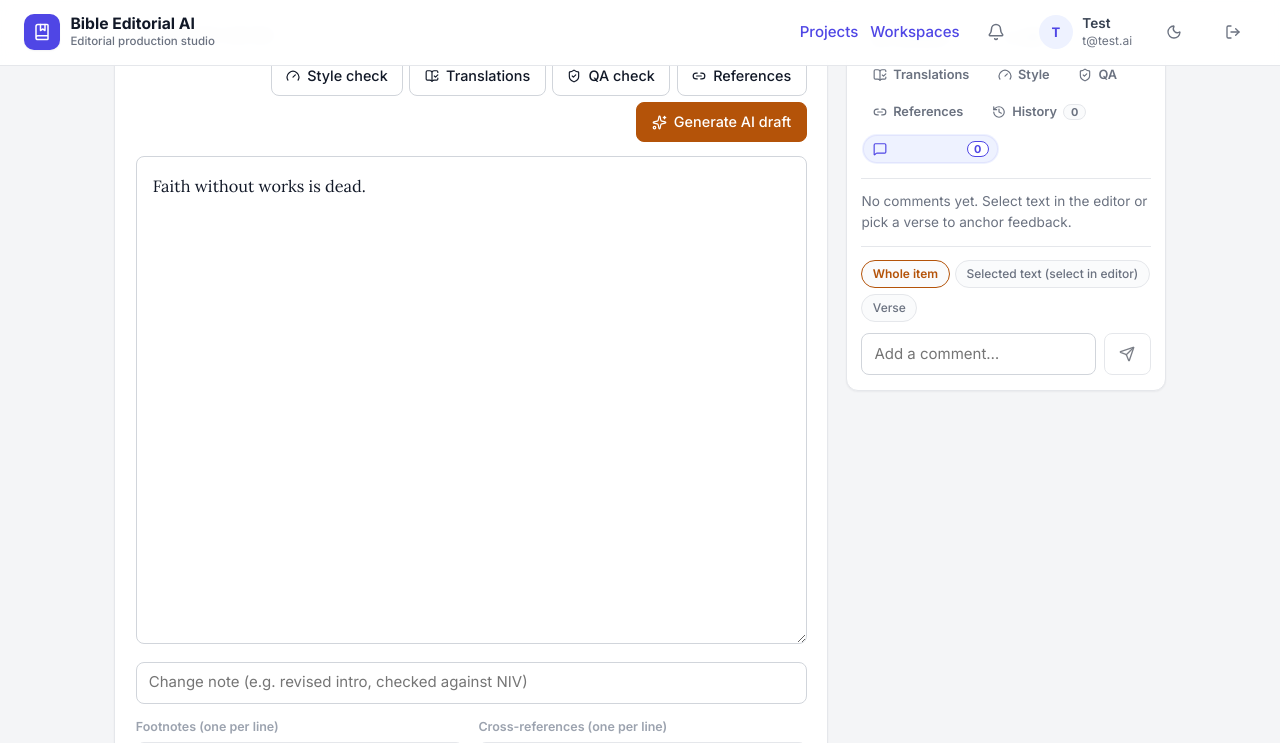
Scenario: Editor save-version happy path › saves a new version from the textarea
(page scrolled)
Replace the text in the text box with placeholder "Write or edit content here. The project style guide will guide AI drafts." with "Edited body text.": (471, 400) [136,156,807,644]
(page scrolled)
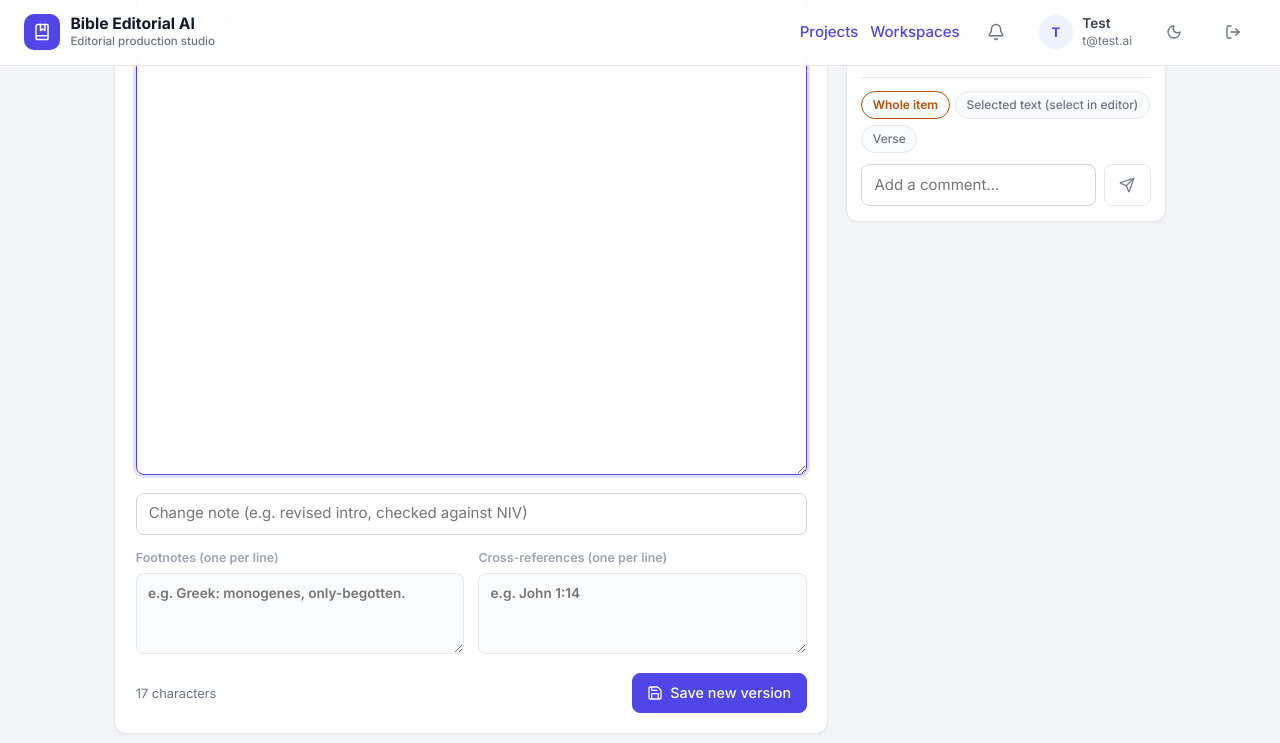
Click the button "Save new version": (719, 693) [632,673,807,713]
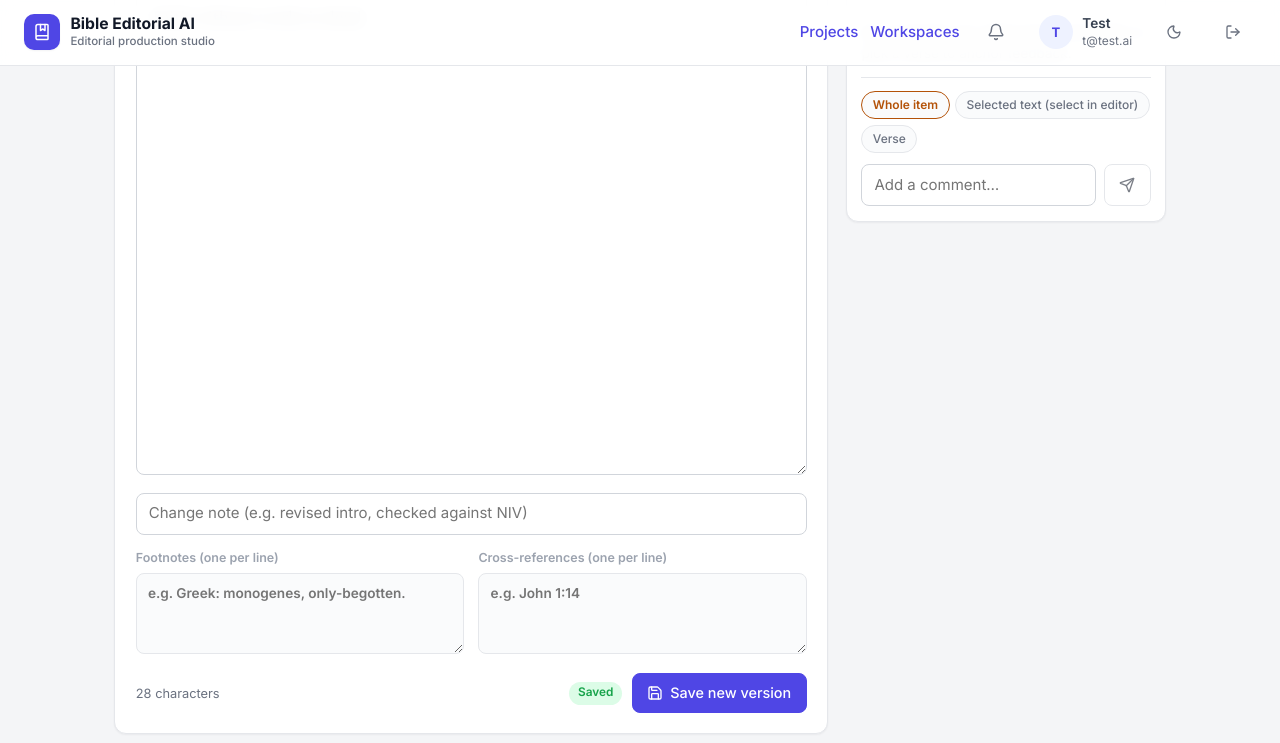
Check: the text "Saved" is shown, box [569,682,622,705]
